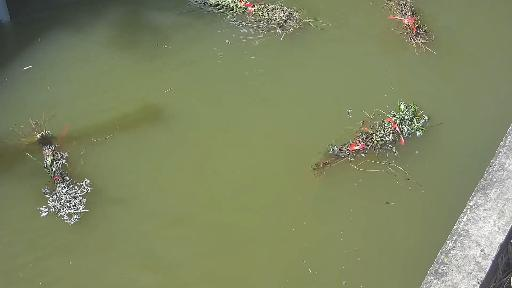twig: (307, 77, 455, 198), (186, 1, 330, 47), (368, 0, 458, 67), (38, 142, 110, 222)
